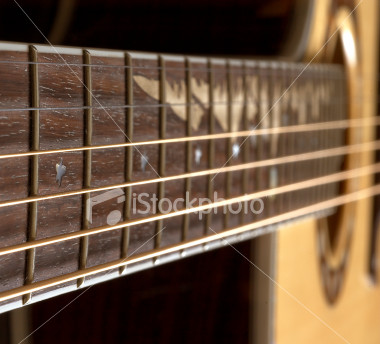guitar: (1, 2, 380, 344)
